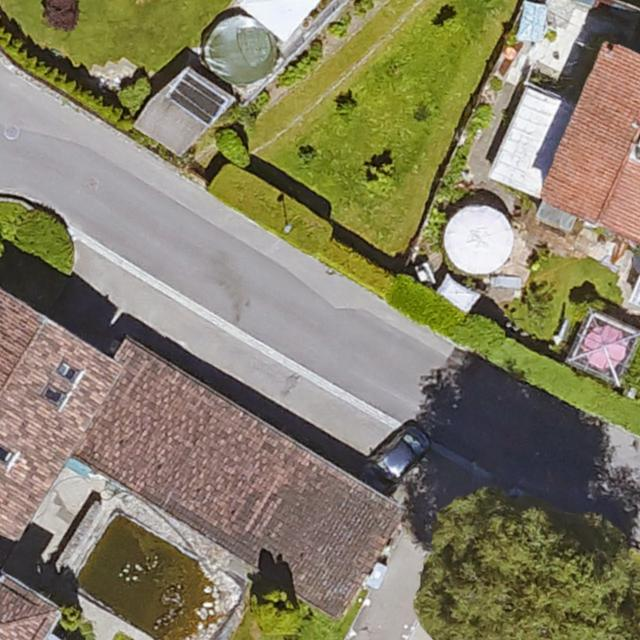tree: (418, 498, 639, 640), (250, 590, 305, 639)
